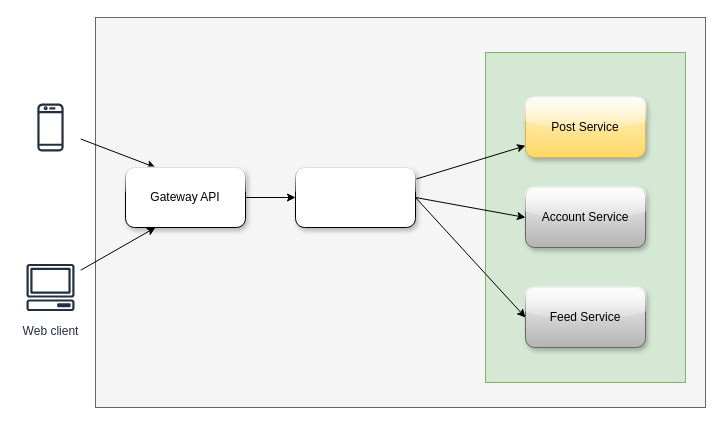
Some shapes in this 723 by 425 pixel diagram are drawn without their labels. Each missing label, with the centre of its shape:
"GraphQL Server" belongs at (x=356, y=198).
"Mobile client" belongs at (x=50, y=127).
